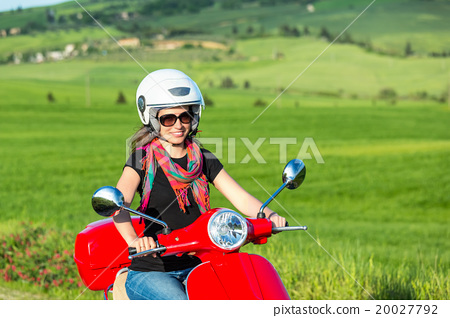helmet: (122, 68, 221, 137)
